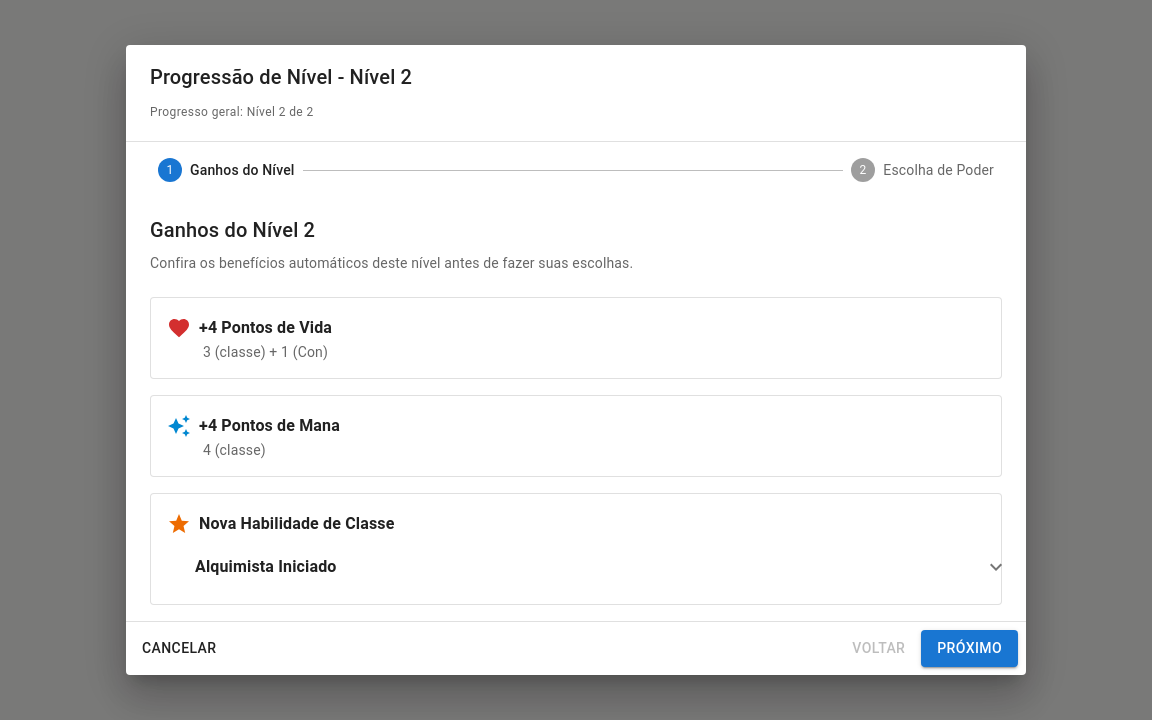
Test: LevelUpWizardModal — poderes de suplemento registrado em runtime › oferece poder de classe homebrew endereçado a uma classe VARIANTE
Click the button "Próximo".
click(970, 649)  # box top-left (921, 630), bottom-right (1018, 667)
(page scrolled)
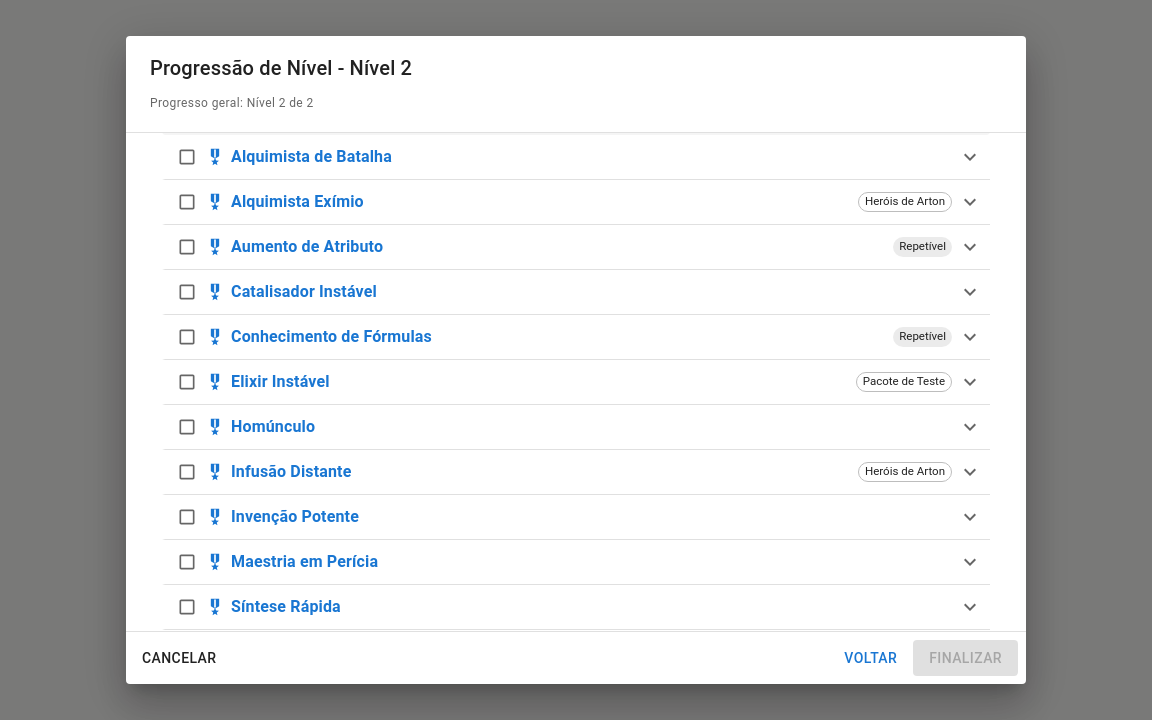
Now the text "Elixir Instável" is shown, box top-left (231, 372), bottom-right (330, 391)
